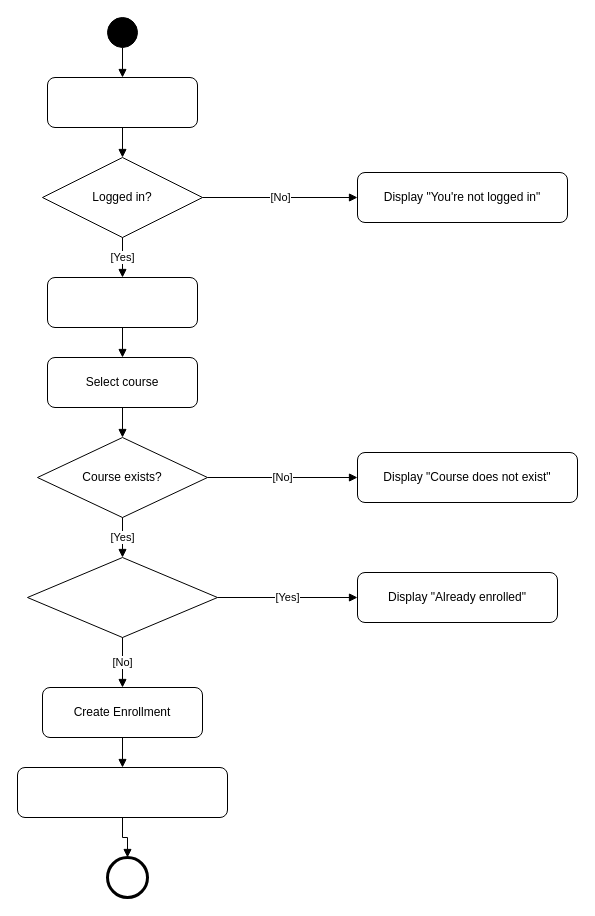
This 595x916 diagram has some shape labels left out. Each missing label, with the centre of its shape:
Already enrolled?: point (122, 597)
Display "Enrollment successful": point (122, 792)
Student logs in: point (122, 102)
View available courses: point (122, 302)
